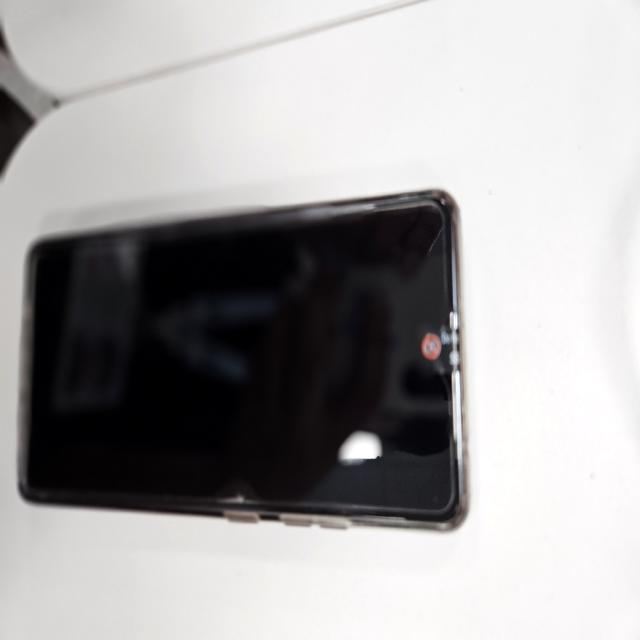phone: (0, 184, 472, 538)
sticker: (412, 310, 463, 383)
